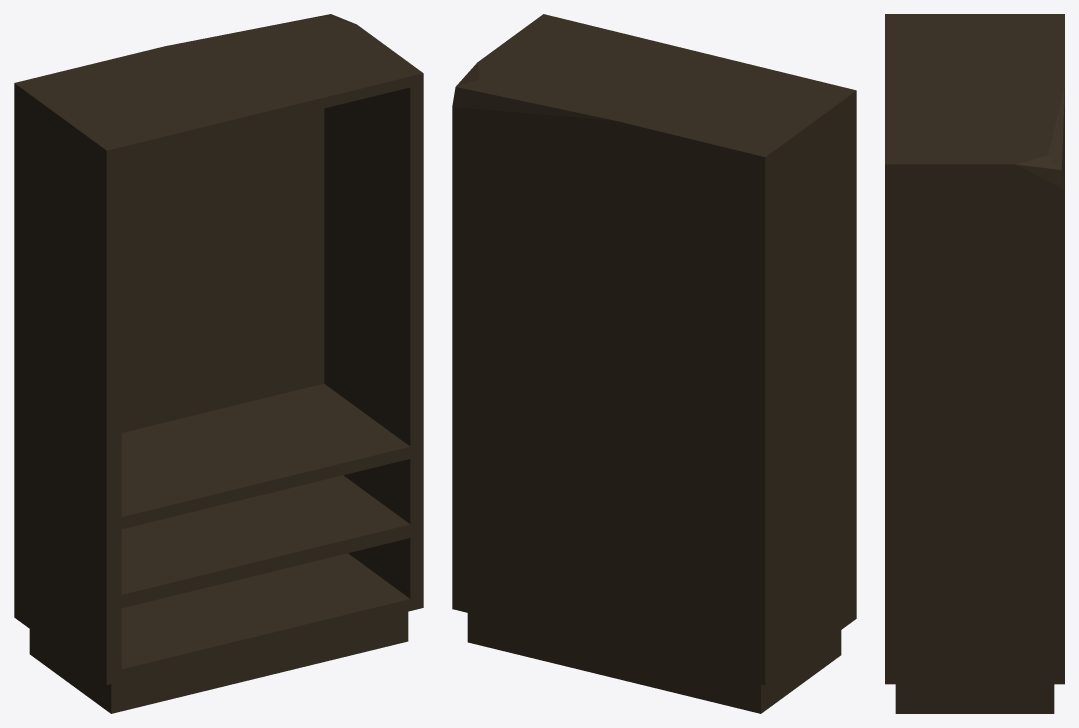
File: SM_Prop_Wardrobe_01.glb
3 views of the same model, side by side, from view 1: azimuth 30°, elevation 25°; view 2: azimuth 150°, elevation 25°; view 3: azimuth 270°, elevation 25° (orthographic). The views are drawn at different scales.
Visible parts, largest first — view 1: SM_Prop_Wardrobe_01; view 2: SM_Prop_Wardrobe_01; view 3: SM_Prop_Wardrobe_01.
Boxes of the visible parts, left/top/right/bottom form: SM_Prop_Wardrobe_01: left=14, top=14, right=423, bottom=713; SM_Prop_Wardrobe_01: left=452, top=14, right=856, bottom=713; SM_Prop_Wardrobe_01: left=885, top=14, right=1064, bottom=713.
Bounding box in the file's own units: 1.12 × 1.93 × 0.5682.
1 material, 1 textured.
